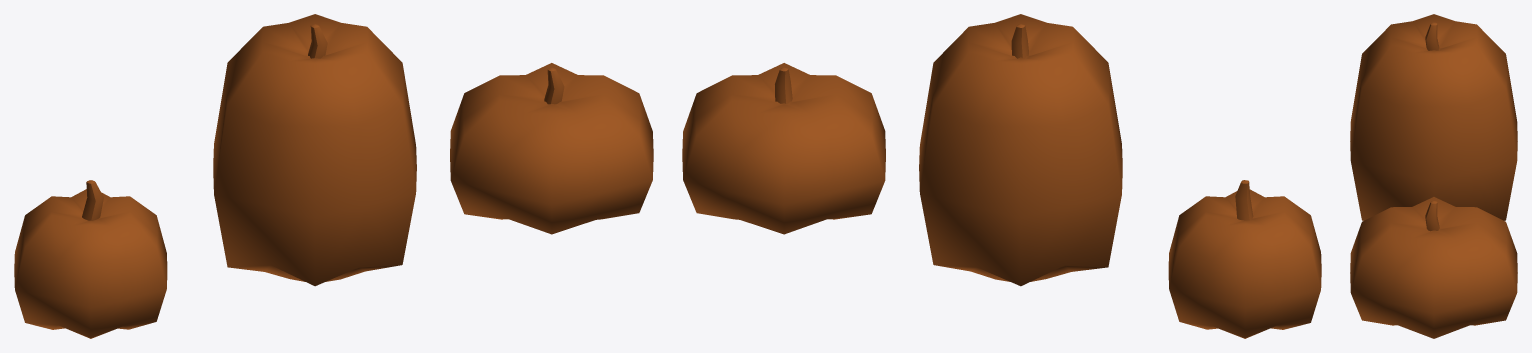
File: Citrouille_Normal.fbx
The picture shows the model from 3 angles, left to right: view 1: azimuth 30°, elevation 25°; view 2: azimuth 150°, elevation 25°; view 3: azimuth 270°, elevation 25°; orthographic projection. The views are drawn at different scales.
Visible parts, largest first — view 1: Sphere006, Sphere005, Sphere007, Box003, Box001, Box002; view 2: Sphere006, Sphere005, Sphere007, Box003, Box001, Box002; view 3: Sphere006, Sphere005, Box001, Box002.
Part boxes in pixels (x1,y1,x2,y2): Sphere006: [213, 14, 416, 286]; Sphere005: [450, 63, 653, 234]; Sphere007: [14, 189, 167, 338]; Box003: [82, 180, 103, 220]; Box001: [544, 67, 564, 104]; Box002: [308, 24, 327, 58]; Sphere006: [919, 14, 1122, 286]; Sphere005: [682, 63, 885, 234]; Sphere007: [1168, 189, 1321, 338]; Box003: [1235, 180, 1253, 220]; Box001: [775, 67, 792, 103]; Box002: [1011, 24, 1028, 58]; Sphere006: [1350, 14, 1517, 220]; Sphere005: [1350, 197, 1517, 338]; Box001: [1425, 201, 1439, 231]; Box002: [1425, 22, 1439, 50].
Bounding box in the file's own units: 114 × 41.32 × 31.59.
